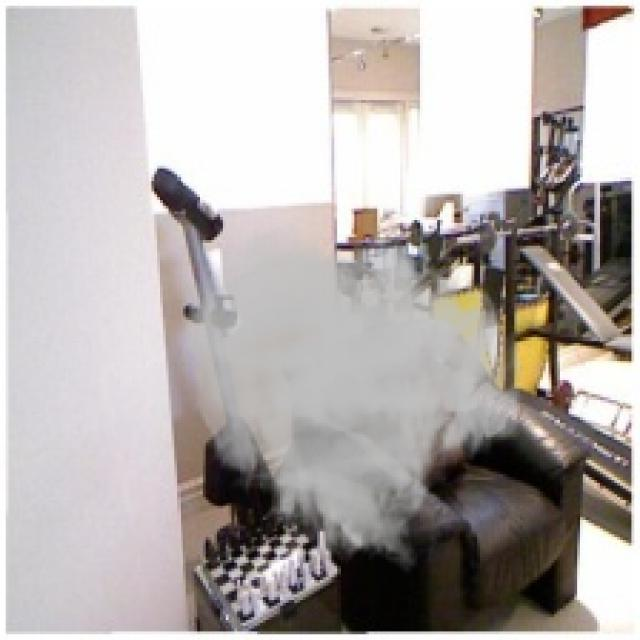smoke: (177, 223, 526, 574)
